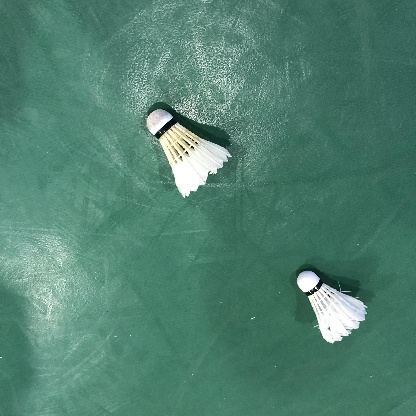ball_single: (147, 109, 232, 198), (297, 271, 367, 344)
